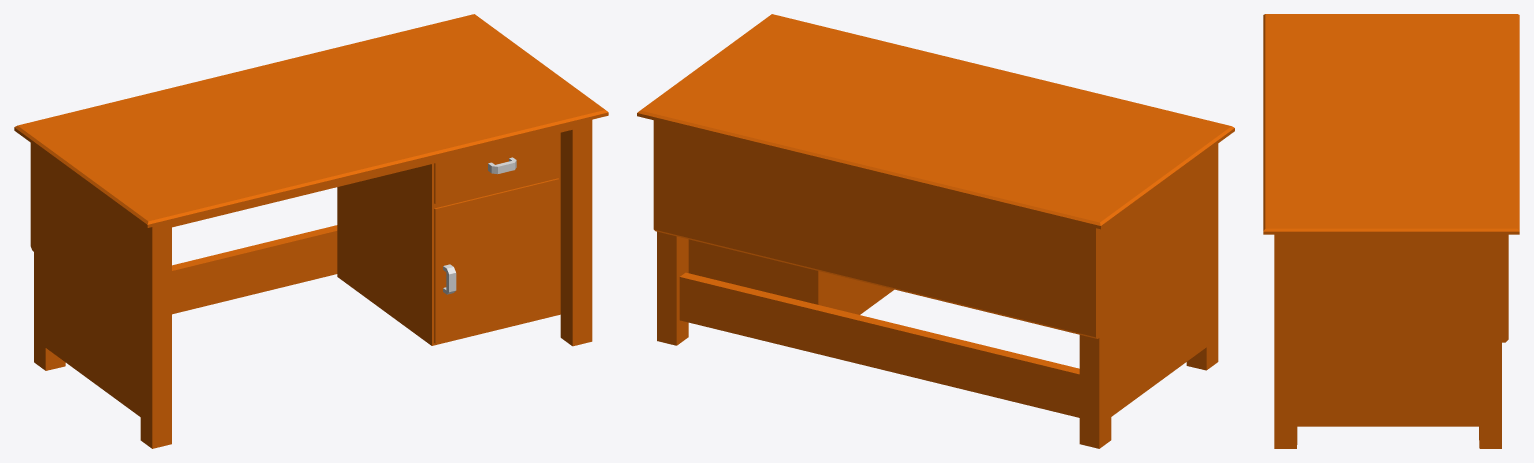
The model's file is Tabel.fbx.
3 views of the same model, side by side, from view 1: azimuth 30°, elevation 25°; view 2: azimuth 150°, elevation 25°; view 3: azimuth 270°, elevation 25° (orthographic). The views are drawn at different scales.
Parts seen in each view (by area): view 1: Cube.002; view 2: Cube.002; view 3: Cube.002.
Boxes of the visible parts, x1=… form: Cube.002: x1=14, y1=14, x2=608, y2=448; Cube.002: x1=637, y1=14, x2=1234, y2=448; Cube.002: x1=1263, y1=14, x2=1519, y2=448.
Bounding box in the file's own units: 620 × 300 × 311.
